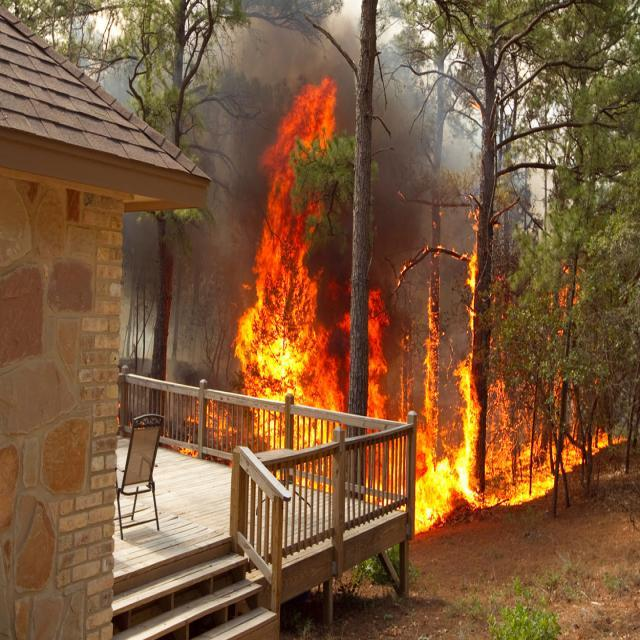Fire: (246, 87, 355, 460), (364, 296, 486, 539), (489, 383, 597, 516)
Smoke: (110, 52, 238, 349), (364, 74, 466, 296), (234, 0, 371, 97)
